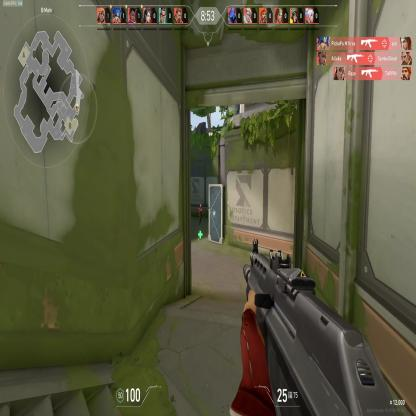enemy: (198, 202, 202, 225)
